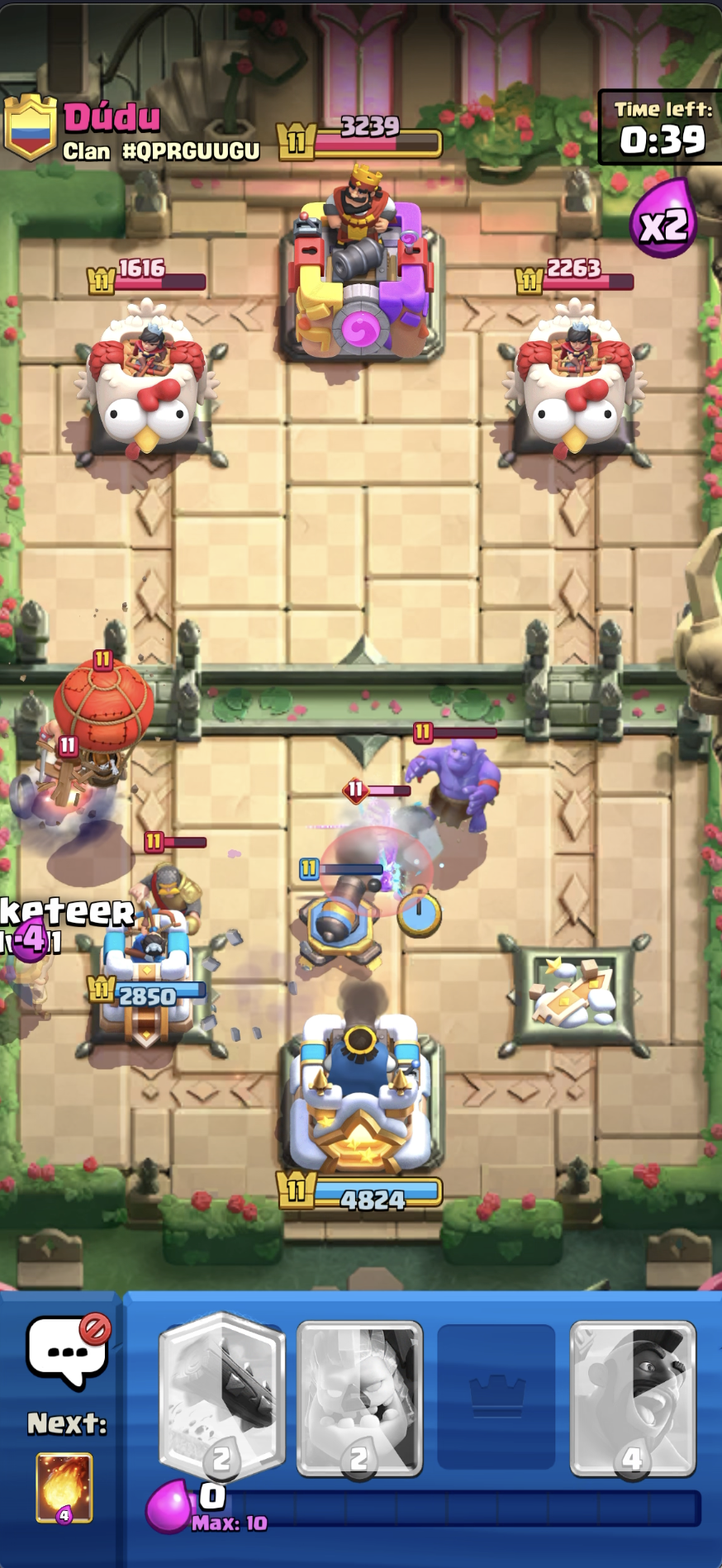balloon: (55, 639, 157, 799)
bowler: (404, 714, 504, 835)
knight: (135, 820, 211, 926)
